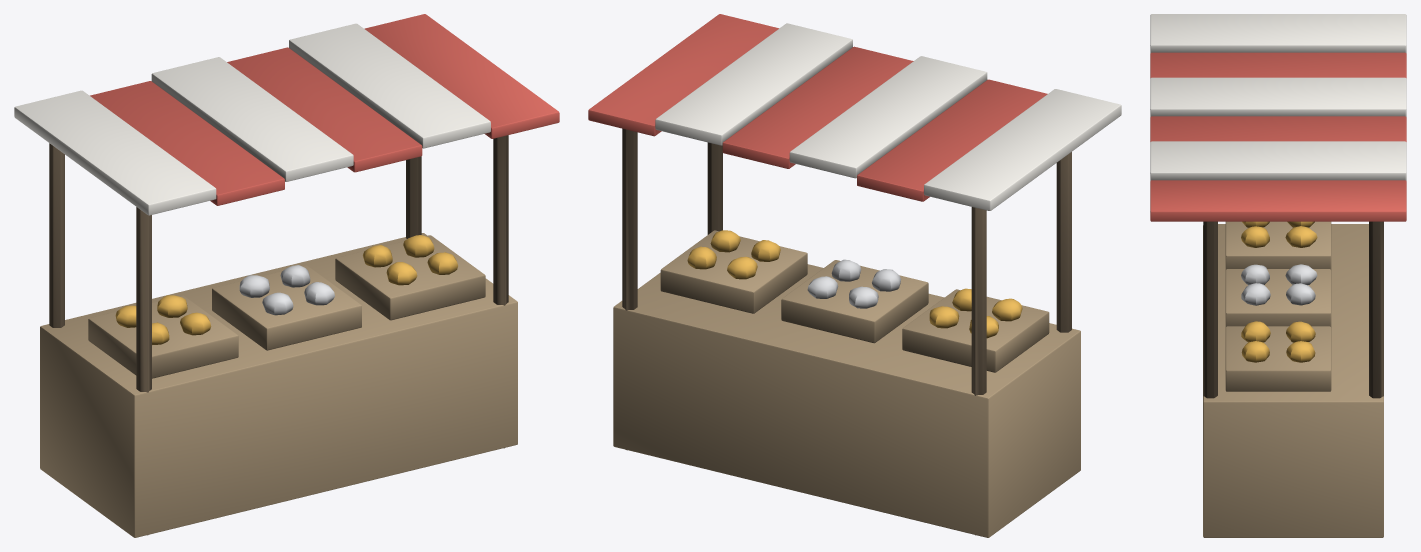
The model's file is stall.glb.
3 renders of one model, left to right at view 1: azimuth 30°, elevation 25°; view 2: azimuth 150°, elevation 25°; view 3: azimuth 270°, elevation 25°, orthographic. The views are drawn at different scales.
Visible parts, largest first — view 1: boat_plank, boat_awning2, boat_awning, boat_post, boat_fruit, boat_chrome; view 2: boat_plank, boat_awning2, boat_awning, boat_post, boat_fruit, boat_chrome; view 3: boat_plank, boat_awning2, boat_awning, boat_post, boat_fruit, boat_chrome.
Part boxes in pixels (x1,y1,x2,y2): boat_plank: (40,233,517,537); boat_awning2: (14,23,490,215); boat_awning: (90,14,559,205); boat_post: (49,135,508,535); boat_fruit: (115,235,457,344); boat_chrome: (239,265,334,315); boat_plank: (613,230,1080,537); boat_awning2: (655,23,1121,210); boat_awning: (588,14,1047,201); boat_post: (622,128,1071,535); boat_fruit: (687,230,1022,338); boat_chrome: (807,259,901,308); boat_plank: (1203,221,1383,537); boat_awning2: (1150,14,1406,180); boat_awning: (1150,52,1406,221); boat_post: (1203,221,1383,398); boat_fruit: (1241,221,1317,362); boat_chrome: (1241,264,1317,305).
Size of the model in its own units: 3 by 2.49 by 1.7.
